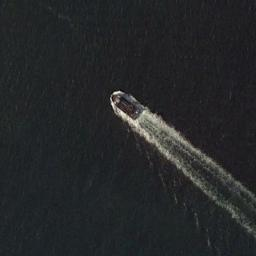boat: (110, 92, 142, 122)
